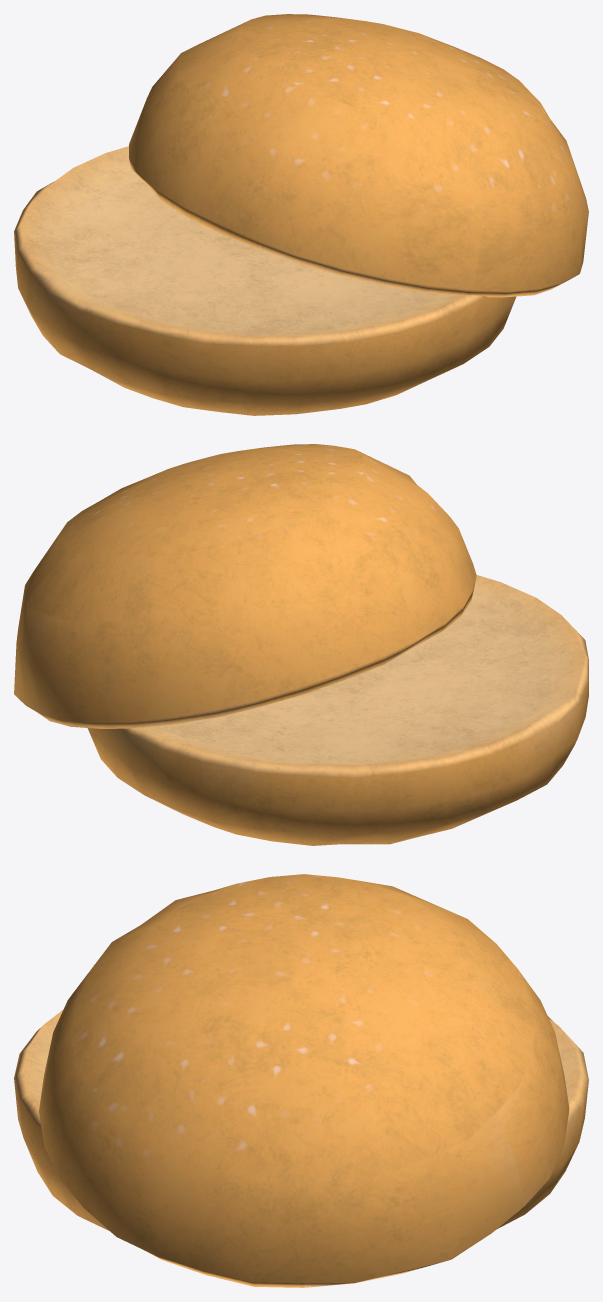
Rendered from Bread_Visual.glb.
3 renders of one model, top to bottom at view 1: azimuth 30°, elevation 25°; view 2: azimuth 150°, elevation 25°; view 3: azimuth 270°, elevation 25°, orthographic. The views are drawn at different scales.
Parts seen in each view (by area): view 1: Bread top, Bread bottom; view 2: Bread top, Bread bottom; view 3: Bread top, Bread bottom.
Part boxes in pixels (box(x1,y1,x2,y2)): Bread top: box(129, 14, 588, 297); Bread bottom: box(14, 146, 516, 415); Bread top: box(14, 444, 476, 728); Bread bottom: box(87, 575, 588, 845); Bread top: box(39, 874, 569, 1287); Bread bottom: box(14, 1009, 588, 1230).
Size of the model in its own units: 0.9711 by 0.5257 by 0.8498.
2 materials, 2 textured.
